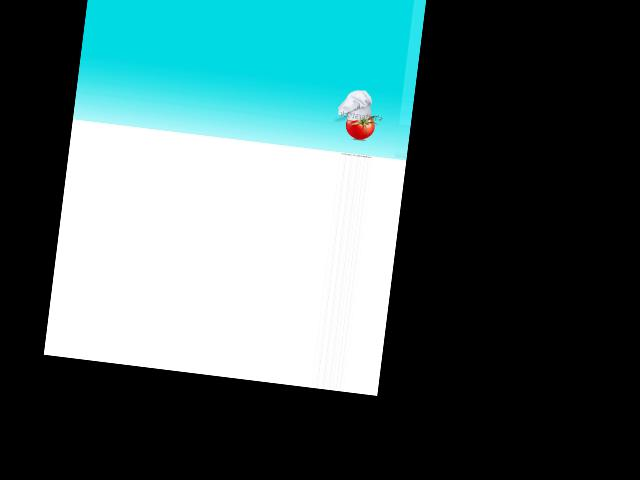tomato: (344, 113, 375, 140)
